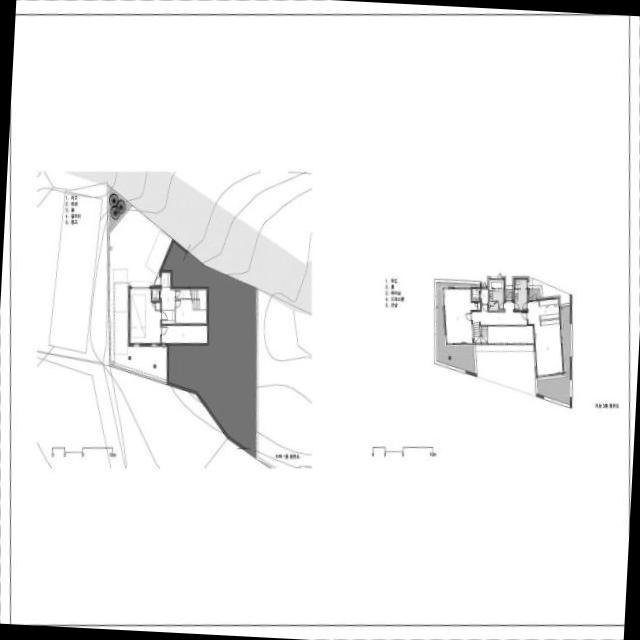background: (0, 0, 640, 640)
space_bedroom: (528, 301, 563, 376)
space_dressroom: (540, 299, 559, 320)
space_elevator: (472, 289, 480, 301)
space_elevator_hall: (482, 289, 488, 303)
space_front: (162, 272, 171, 287)
space_other: (444, 290, 477, 343), (130, 289, 160, 343), (472, 303, 527, 325), (488, 326, 534, 343), (162, 326, 207, 343), (176, 300, 207, 323), (160, 287, 175, 324), (176, 289, 192, 298), (152, 289, 160, 301), (156, 303, 160, 310)
space_staircase: (473, 322, 488, 343), (192, 289, 207, 310)
space_toilet: (490, 280, 504, 310), (515, 280, 527, 310), (490, 302, 498, 310)
